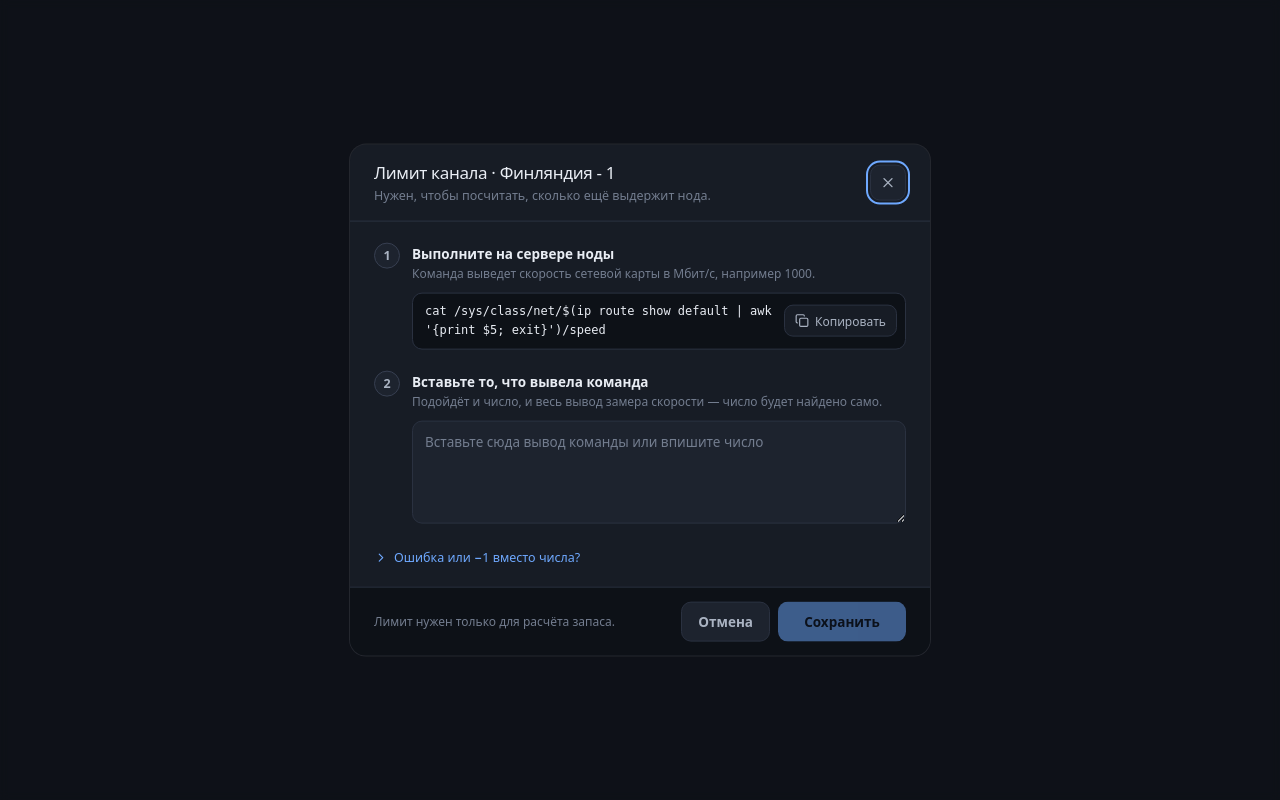
Scenario: окно «Лимит канала» › сервер скорость не сообщает: предупреждение, запасной способ раскрывается сам, сохранить нельзя
Click the text box named "Вывод команды или скорость канала" at (659, 472), box [412,420,906,524]
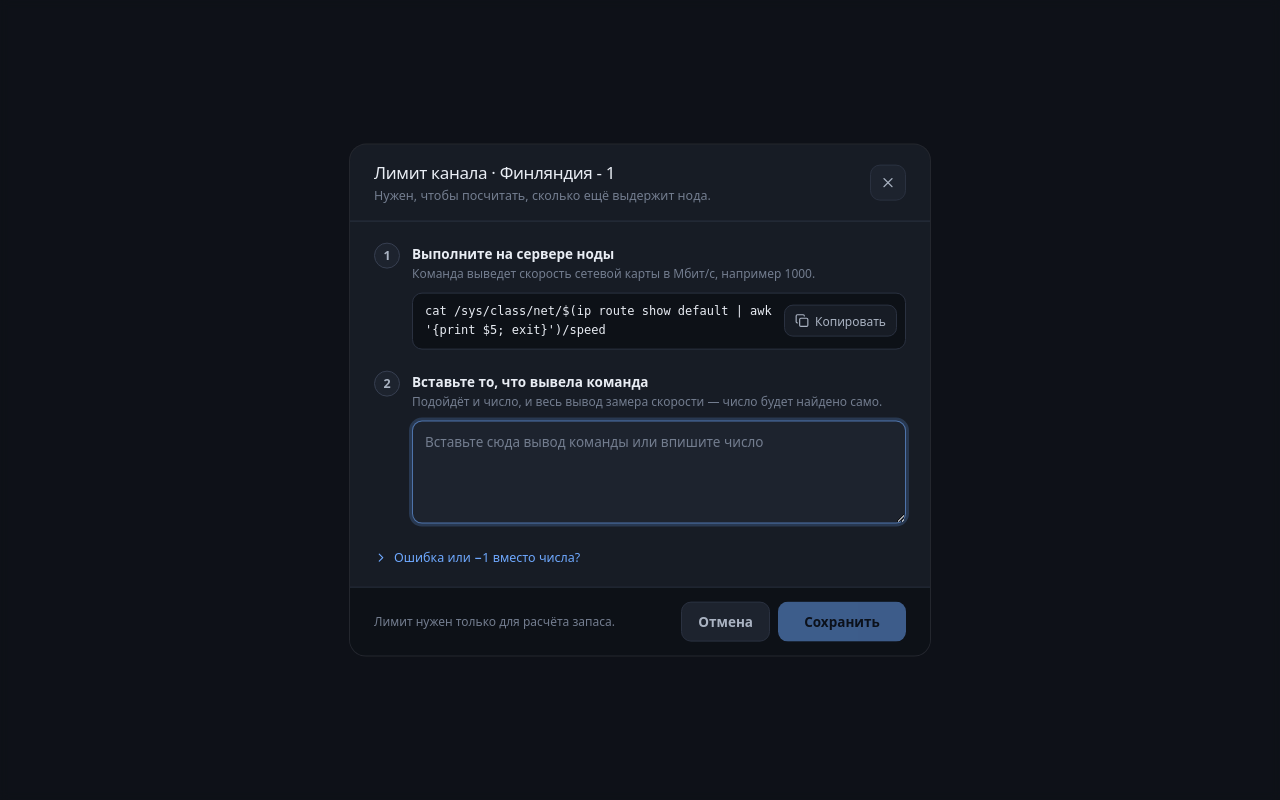
Type keys "cat: read error: Invalid argument"
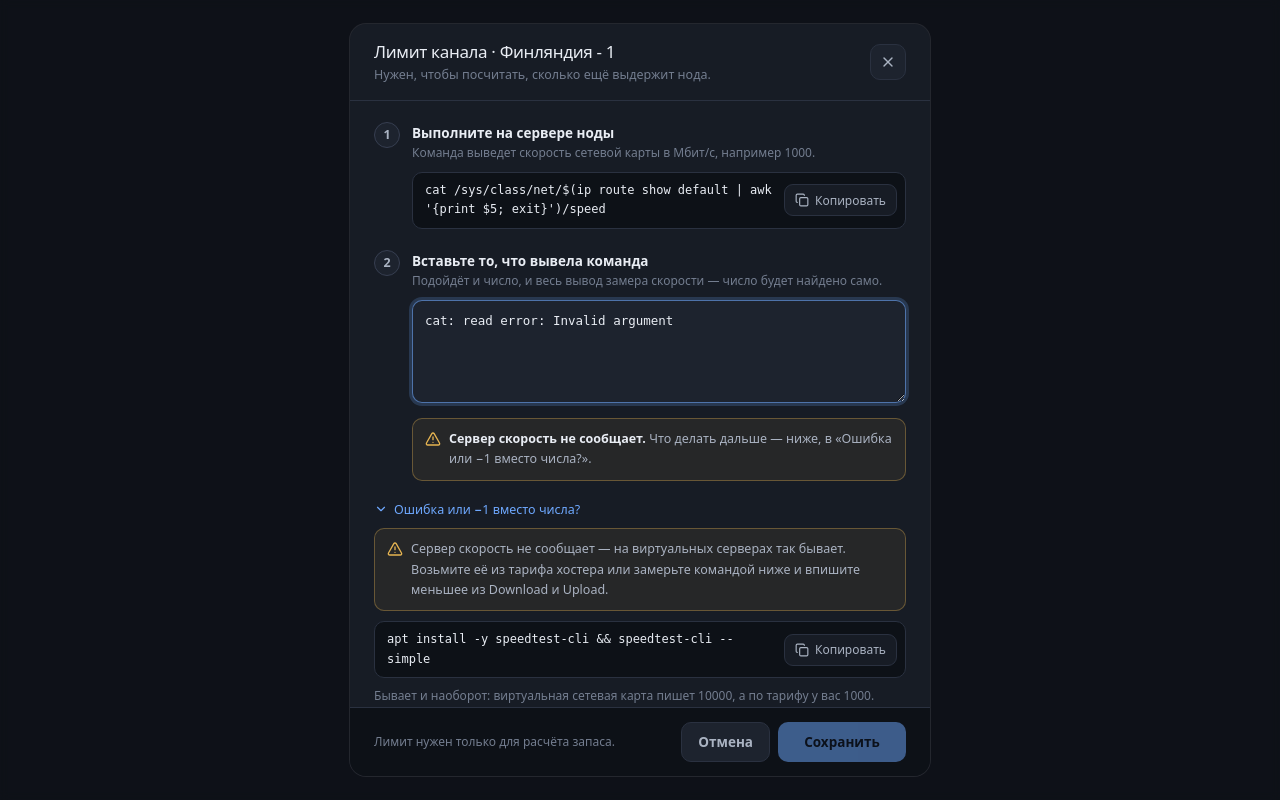
Expected: the button "Сохранить" is disabled, [778,722,906,762]
Expected: the text "Сервер скорость не сообщает." is shown, [449,430,646,447]
Expected: the button "Ошибка или −1 вместо числа?" is expanded
// Человек может свернуть подсказку обратно.
Click the button "Ошибка или −1 вместо числа?" at (477, 510), box [374,501,580,518]
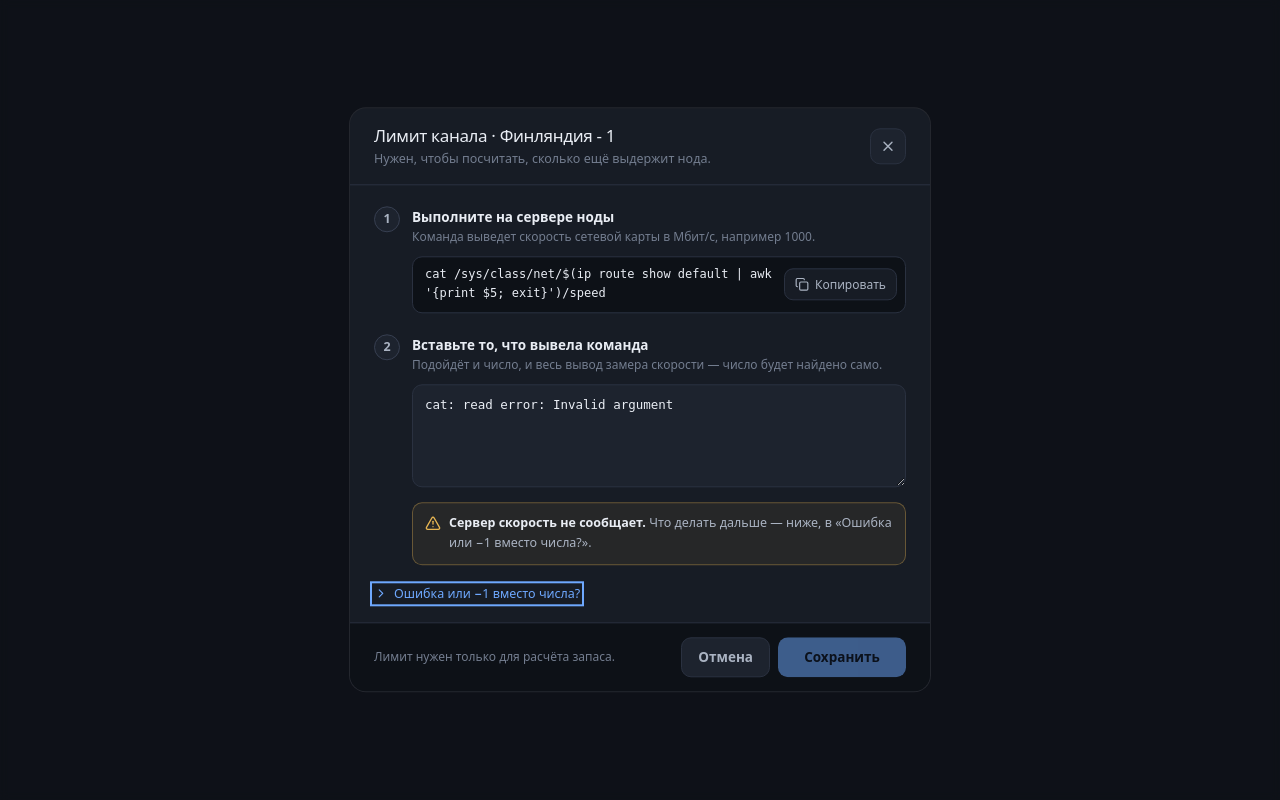
Expected: the dialog "Лимит канала · Финляндия - 1" no longer shows "apt install -y speedtest-cli && speedtest-cli --simple", [350,108,930,692]
